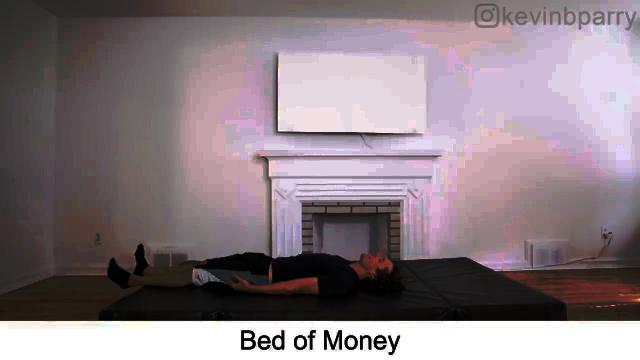jatuh: (100, 230, 404, 308)
